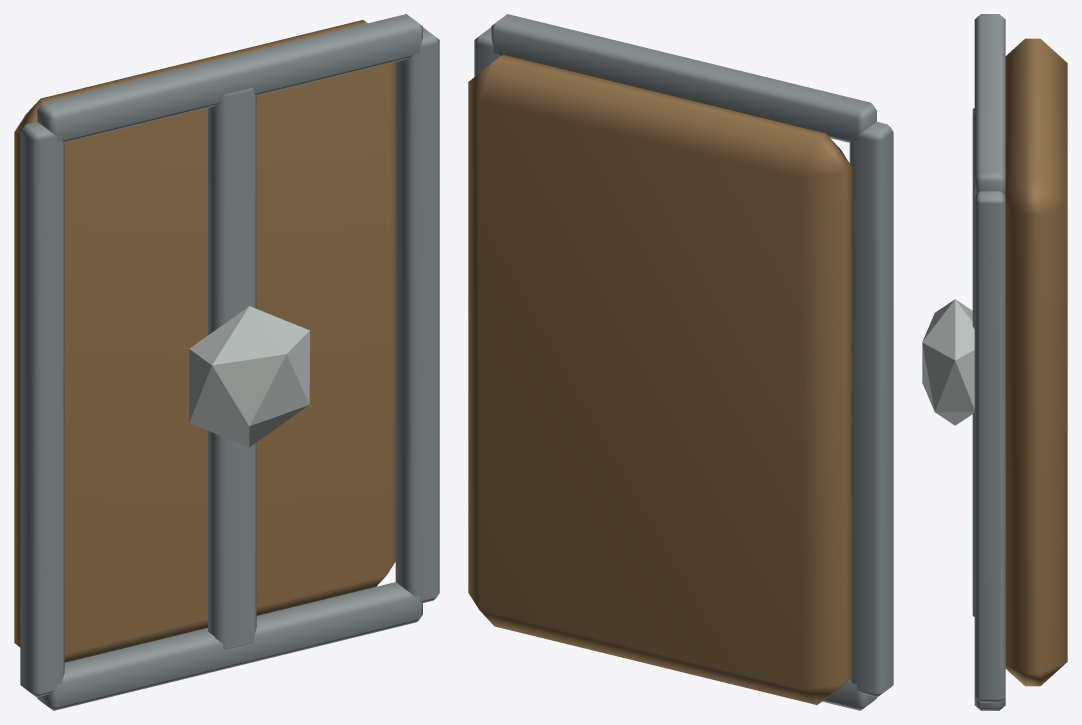
File: prop_wood_shield.glb
3 renders of one model, left to right at view 1: azimuth 30°, elevation 25°; view 2: azimuth 150°, elevation 25°; view 3: azimuth 270°, elevation 25°, orthographic. The views are drawn at different scales.
Parts seen in each view (by area): view 1: shield timber core.002, shield side binding.004, shield side binding.005, shield centre strap.003, shield end binding.005, shield end binding.004, shield boss.003; view 2: shield timber core.002, shield side binding.004, shield end binding.005, shield end binding.004, shield side binding.005; view 3: shield timber core.002, shield side binding.005, shield end binding.005, shield boss.003, shield centre strap.003, shield end binding.004.
Part boxes in pixels (x1,y1,x2,y2): shield timber core.002: (14, 20, 395, 662); shield side binding.004: (20, 122, 64, 697); shield side binding.005: (395, 27, 439, 602); shield centre strap.003: (208, 88, 256, 649); shield end binding.005: (37, 14, 422, 142); shield end binding.004: (37, 582, 422, 710); shield boss.003: (189, 306, 309, 447); shield timber core.002: (468, 54, 851, 704); shield side binding.004: (849, 122, 893, 697); shield end binding.005: (491, 14, 876, 142); shield end binding.004: (822, 679, 876, 710); shield side binding.005: (474, 27, 500, 76); shield timber core.002: (1005, 38, 1067, 686); shield side binding.005: (974, 191, 1005, 702); shield end binding.005: (974, 14, 1005, 193); shield boss.003: (922, 299, 974, 425); shield centre strap.003: (972, 108, 974, 616); shield end binding.004: (974, 697, 1005, 710).
Bounding box in the file's own units: 0.545 × 0.765 × 0.1875.
